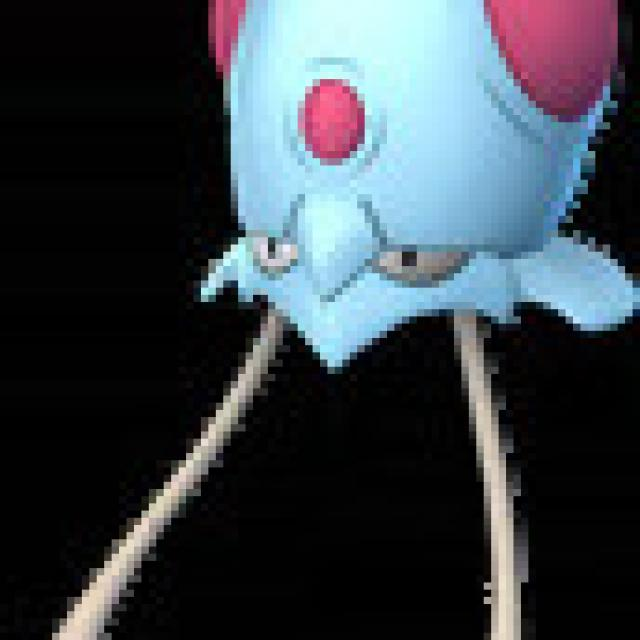Tentacool: (187, 0, 640, 408)
